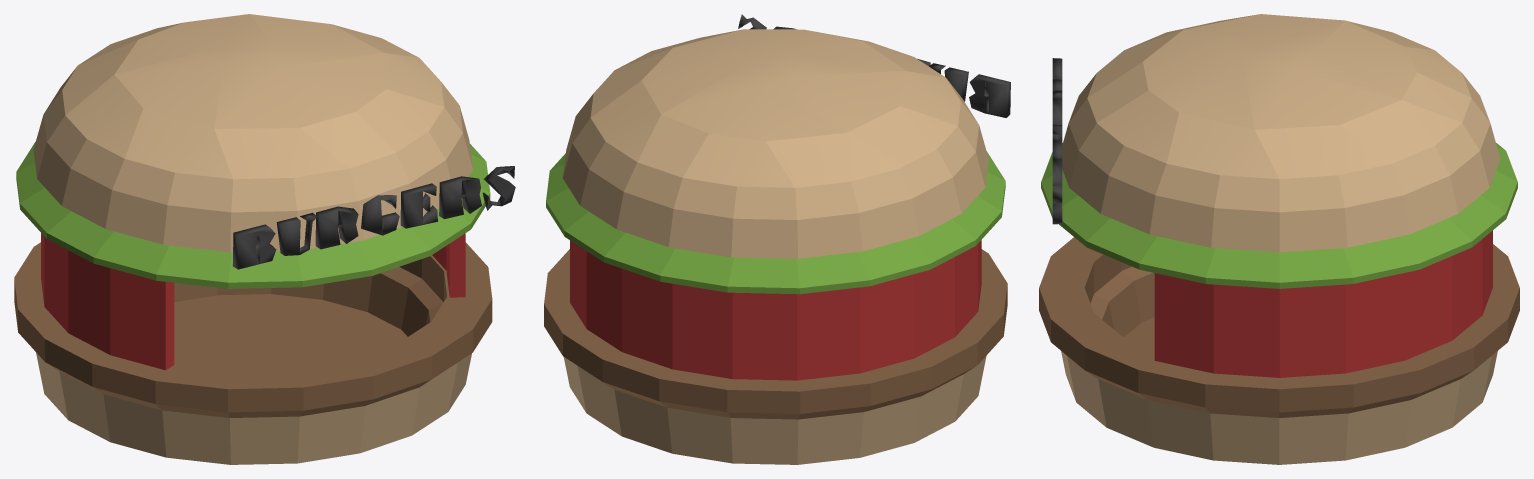
File: SM_shop_burgers_1.fbx
The picture shows the model from 3 angles, left to right: view 1: azimuth 30°, elevation 25°; view 2: azimuth 150°, elevation 25°; view 3: azimuth 270°, elevation 25°; orthographic projection. The views are drawn at different scales.
Visible parts, largest first — view 1: Cylinder020; view 2: Cylinder020; view 3: Cylinder020.
Boxes of the visible parts, x1=… form: Cylinder020: x1=14, y1=14, x2=515, y2=464; Cylinder020: x1=544, y1=14, x2=1010, y2=464; Cylinder020: x1=1039, y1=14, x2=1519, y2=464.
Size of the model in its own units: 455 by 336 by 455.
